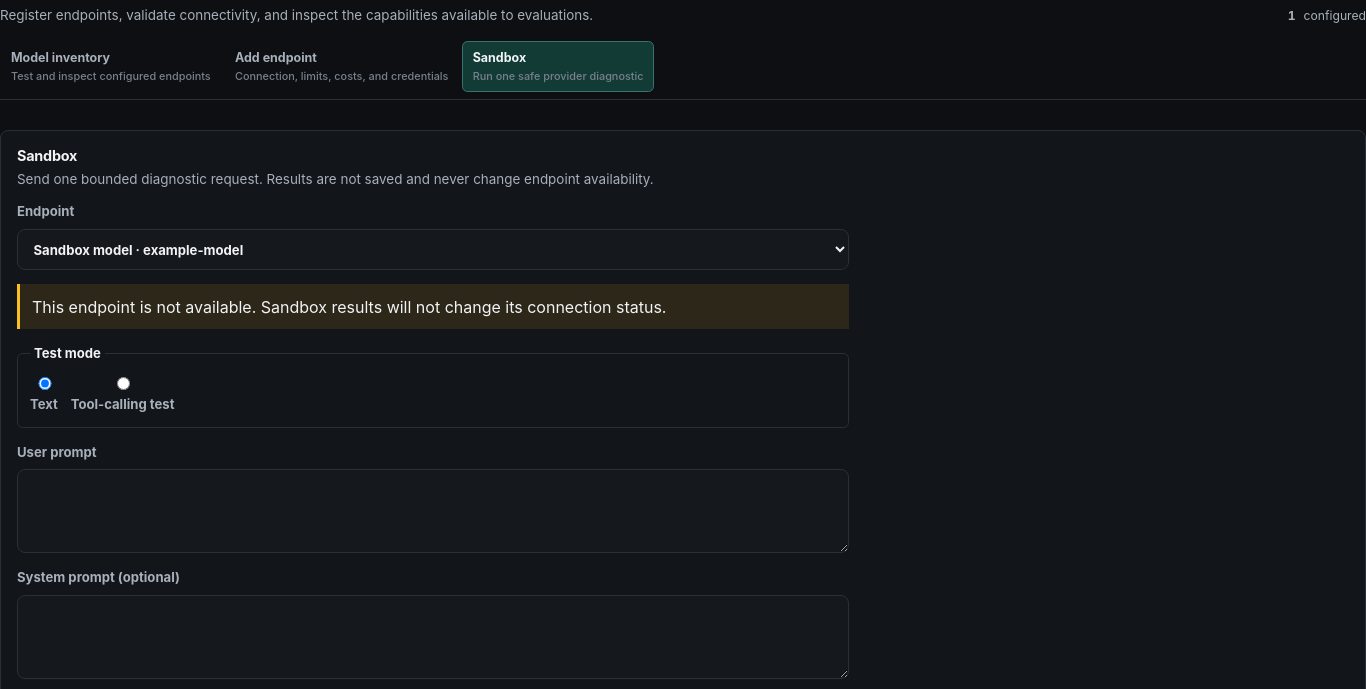
Test case: model sandbox › sends a bounded text test and renders safe evidence and failures
Type "Say hello." into the text box labelled "User prompt" at (433, 511), box [17,469,849,553]
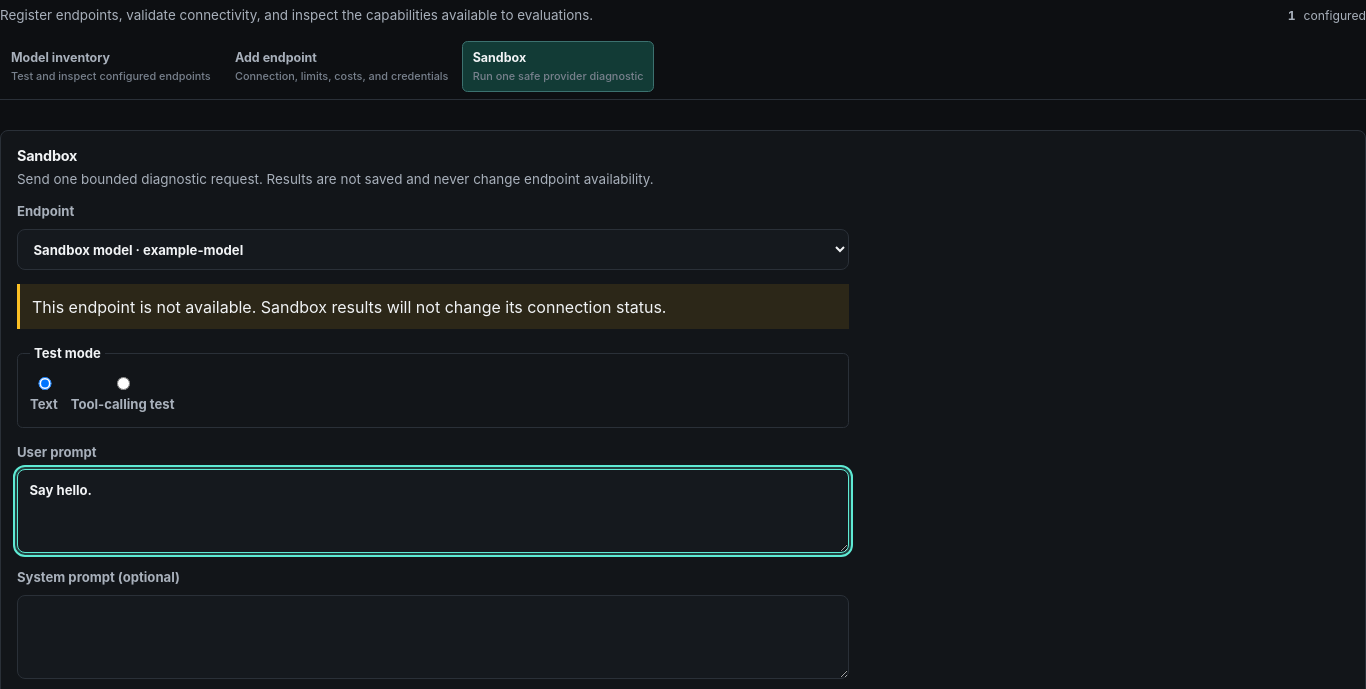
Type "Be concise." into the text box labelled "System prompt (optional)" at (433, 637), box [17,595,849,679]
(page scrolled)
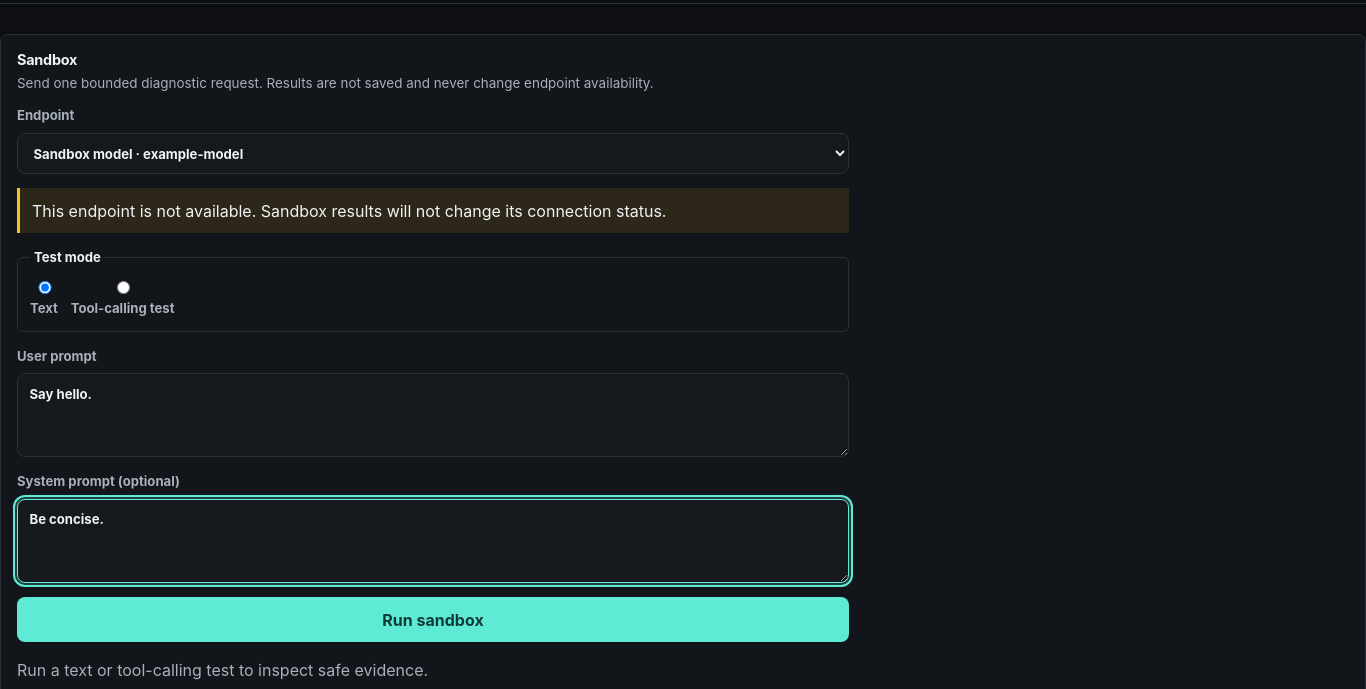
Click the button "Run sandbox" at (433, 620), box [17,597,849,642]
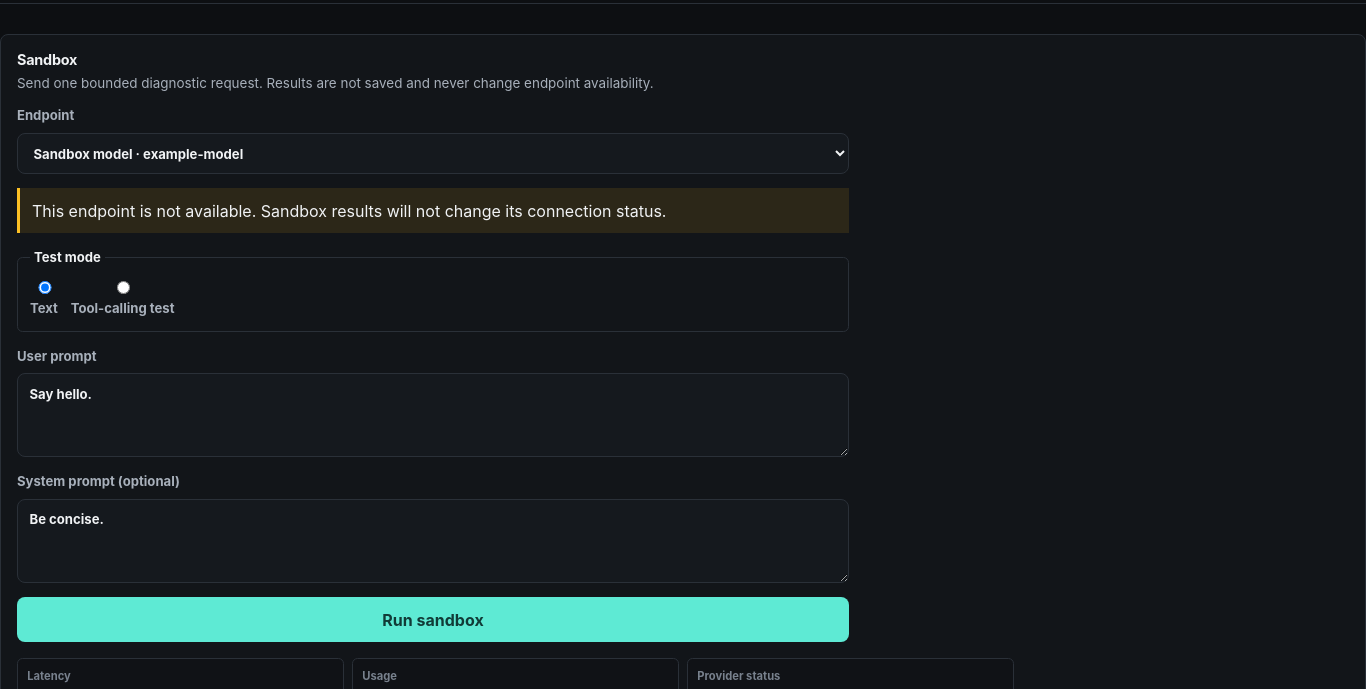
Click the radio button labelled "Tool-calling test" at (124, 287), box [76,281,172,294]
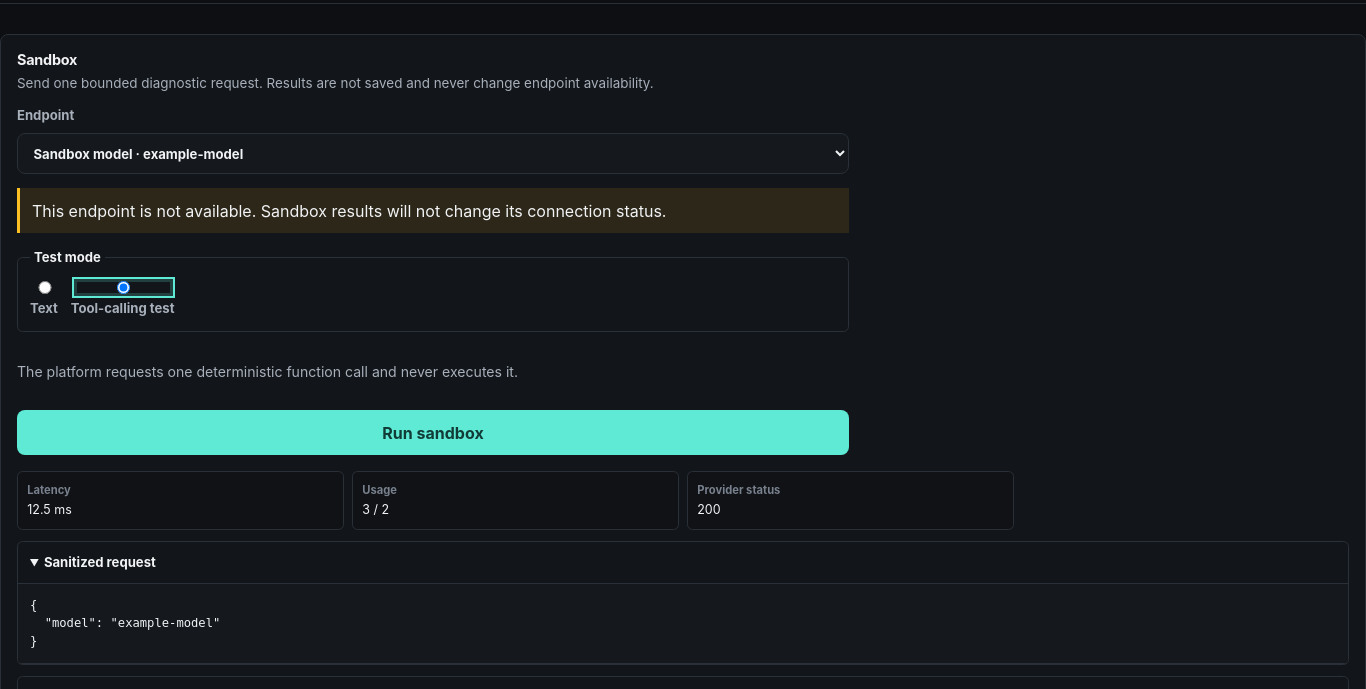
Click the button "Run sandbox" at (433, 433), box [17,410,849,455]
(page scrolled)
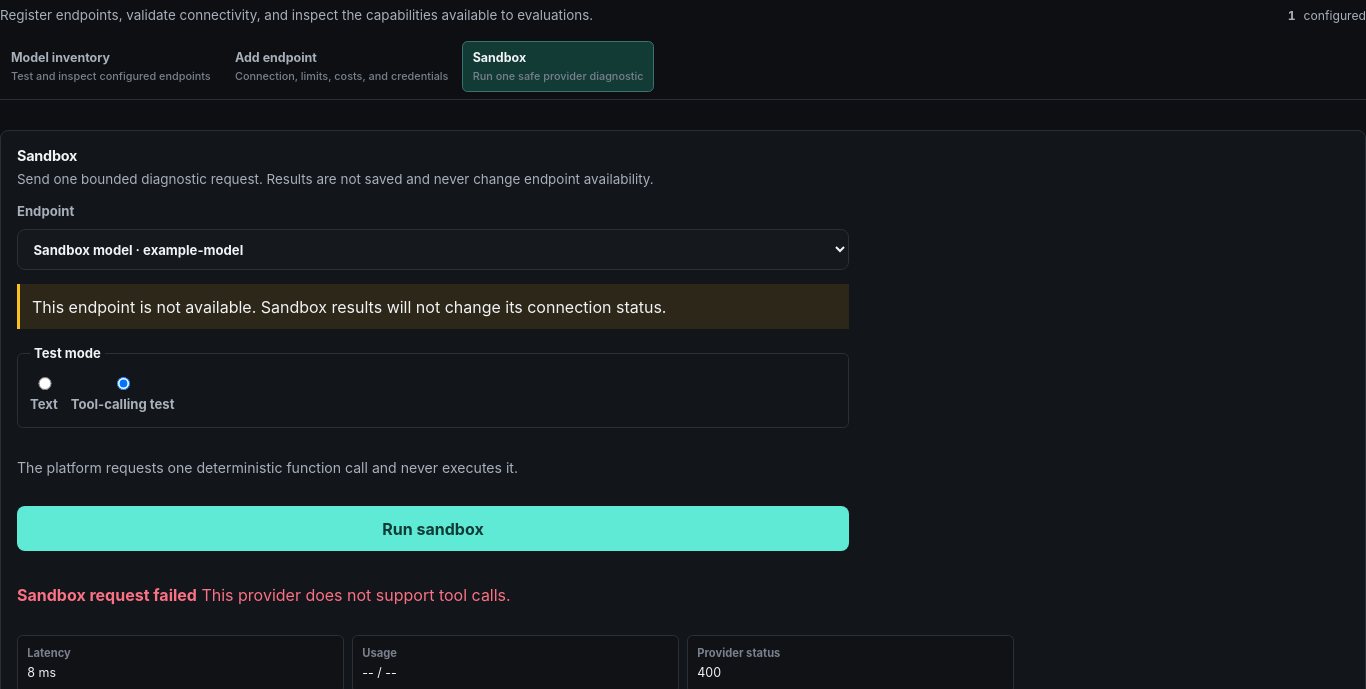
Result: the message "Sandbox request failed This provider does not support tool calls." is shown at [17,585,511,605]
